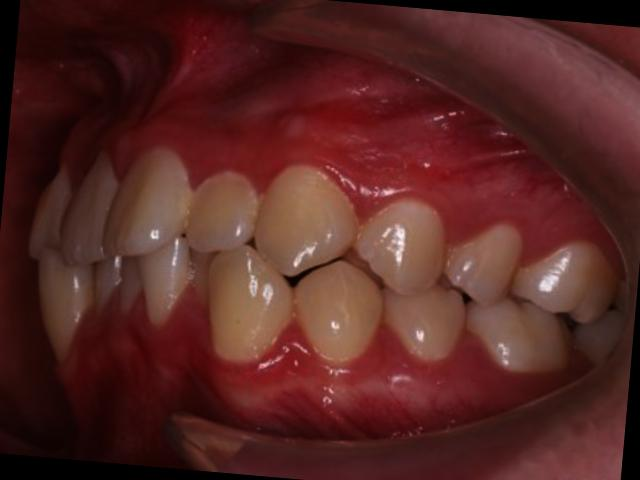canine class I: (195, 135, 395, 387)
molar class III 1/2: (462, 233, 626, 387)
